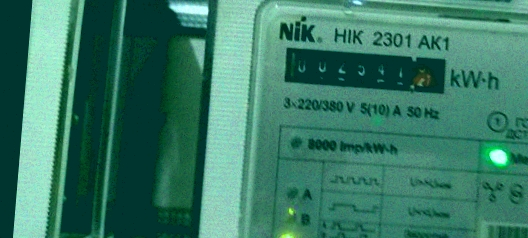0: (294, 51, 308, 73), (315, 51, 328, 73)
1: (393, 59, 406, 80)
2: (335, 54, 348, 75)
4: (374, 56, 388, 78)
5: (353, 54, 367, 77)
6: (415, 72, 427, 88)
screen: (272, 35, 458, 104)
